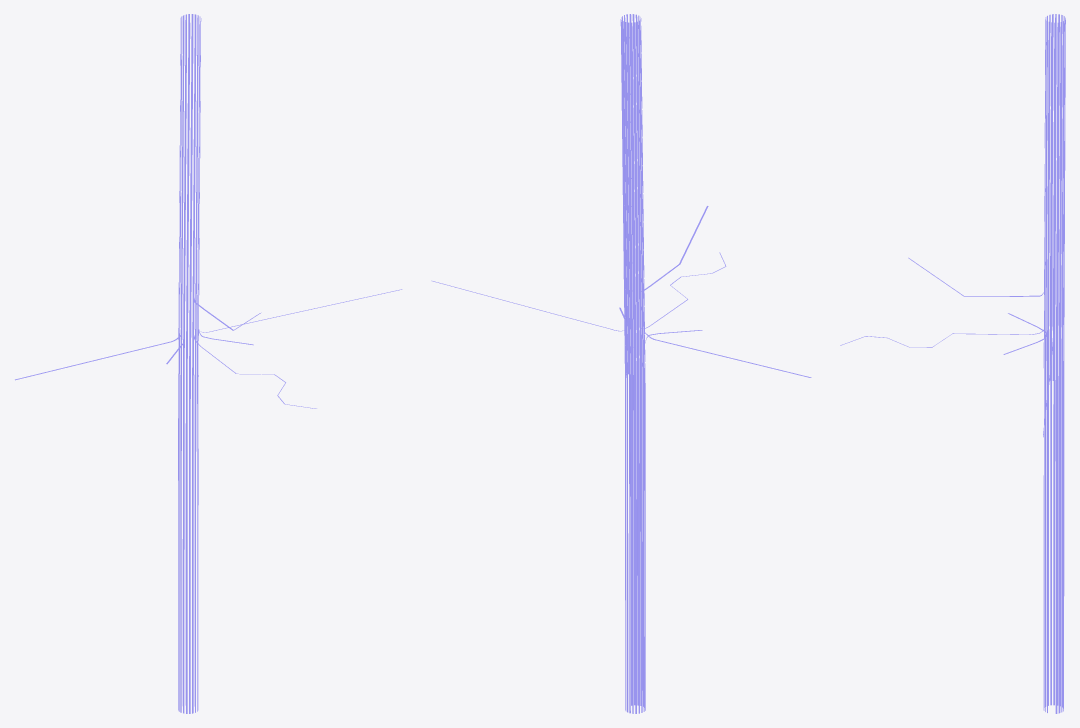
Rendered from line_all.fbx.
3 views of the same model, side by side, from view 1: azimuth 30°, elevation 25°; view 2: azimuth 150°, elevation 25°; view 3: azimuth 270°, elevation 25° (orthographic).
Parts seen in each view (by area): view 1: lobby_object:pCylinder15; view 2: lobby_object:pCylinder15; view 3: lobby_object:pCylinder15.
Boxes of the visible parts, x1,y1,x2,y2 form: lobby_object:pCylinder15: (15,14,402,713); lobby_object:pCylinder15: (431,14,811,713); lobby_object:pCylinder15: (840,14,1065,713).
Size of the model in its own units: 41764 by 71847 by 21204.
